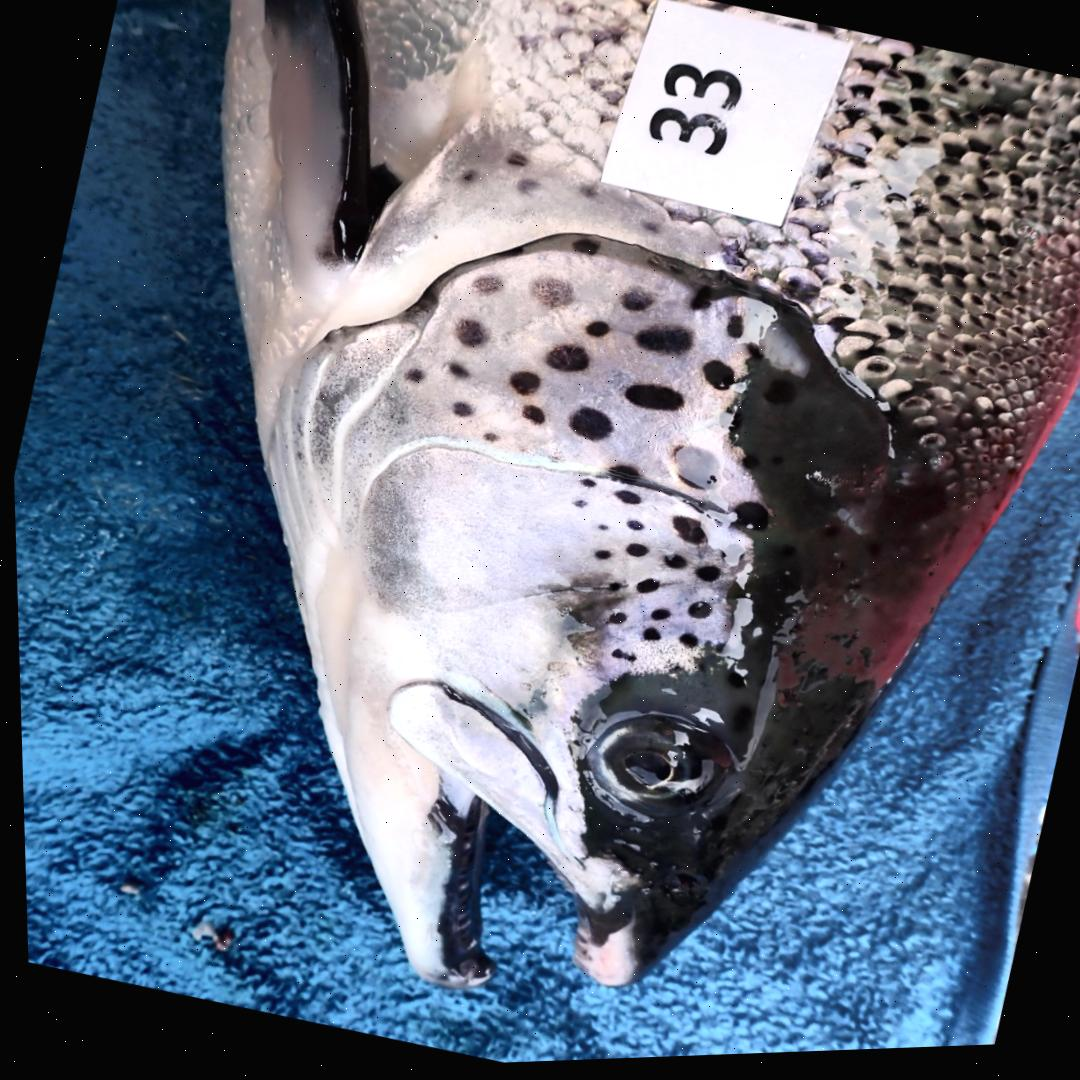spot: (671, 450, 717, 494), (631, 329, 690, 359), (621, 387, 680, 416), (565, 410, 609, 444), (529, 280, 572, 312), (543, 347, 587, 376), (686, 289, 733, 315), (729, 505, 767, 535), (667, 519, 703, 549), (699, 364, 733, 395), (452, 321, 484, 349), (618, 291, 652, 316), (506, 374, 538, 399), (468, 277, 500, 299), (604, 468, 636, 488), (519, 406, 543, 428), (723, 318, 743, 344), (683, 604, 708, 623), (691, 569, 718, 586), (443, 363, 467, 382), (582, 323, 607, 341), (611, 493, 639, 509), (571, 242, 597, 258), (659, 556, 682, 574), (632, 582, 656, 597), (449, 403, 470, 420), (622, 546, 644, 562), (400, 370, 422, 386), (674, 637, 694, 652), (608, 652, 631, 665), (646, 612, 667, 625), (638, 631, 657, 645), (622, 522, 640, 535), (603, 617, 622, 628), (568, 501, 585, 512), (589, 553, 607, 563), (600, 586, 619, 595), (479, 435, 496, 445), (577, 481, 592, 491), (594, 528, 604, 534)
